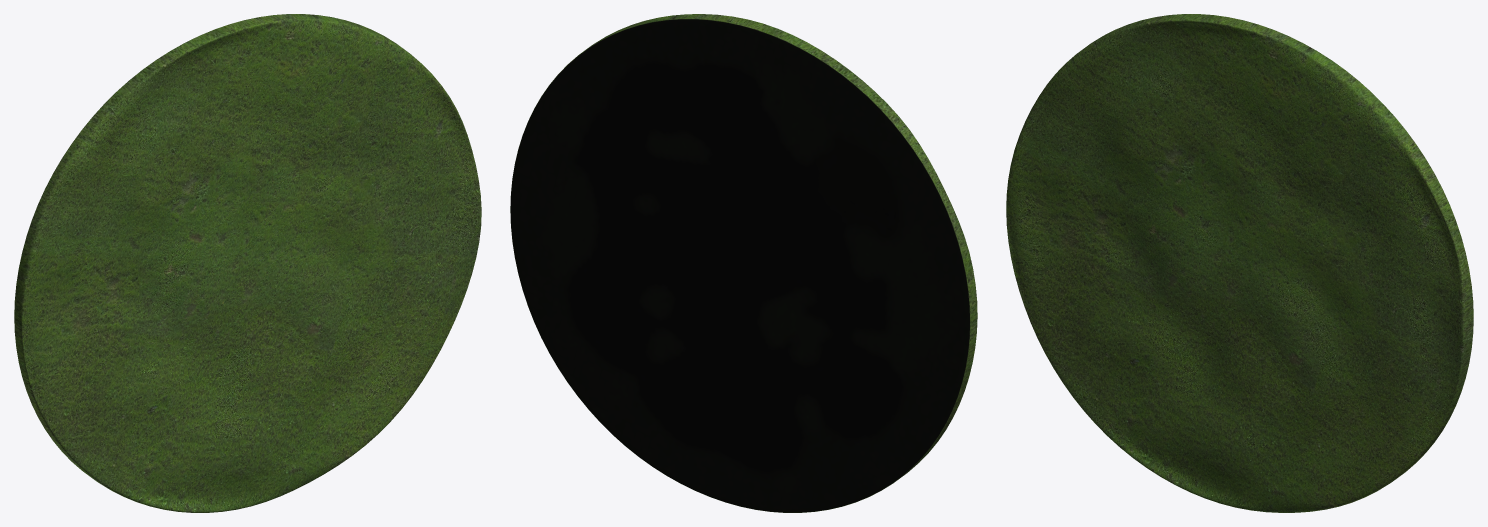
File: Circular_Grass.glb
The picture shows the model from 3 angles, left to right: view 1: azimuth 30°, elevation 25°; view 2: azimuth 150°, elevation 25°; view 3: azimuth 330°, elevation 25°; orthographic projection.
Visible parts, largest first — view 1: Node1; view 2: Node1; view 3: Node1.
Part boxes in pixels (x1,y1,x2,y2): Node1: (14,14,481,512); Node1: (510,14,977,512); Node1: (1006,14,1473,512).
Size of the model in its own units: 287 by 287 by 11.54.
Materials: 1 (1 with a texture image).
